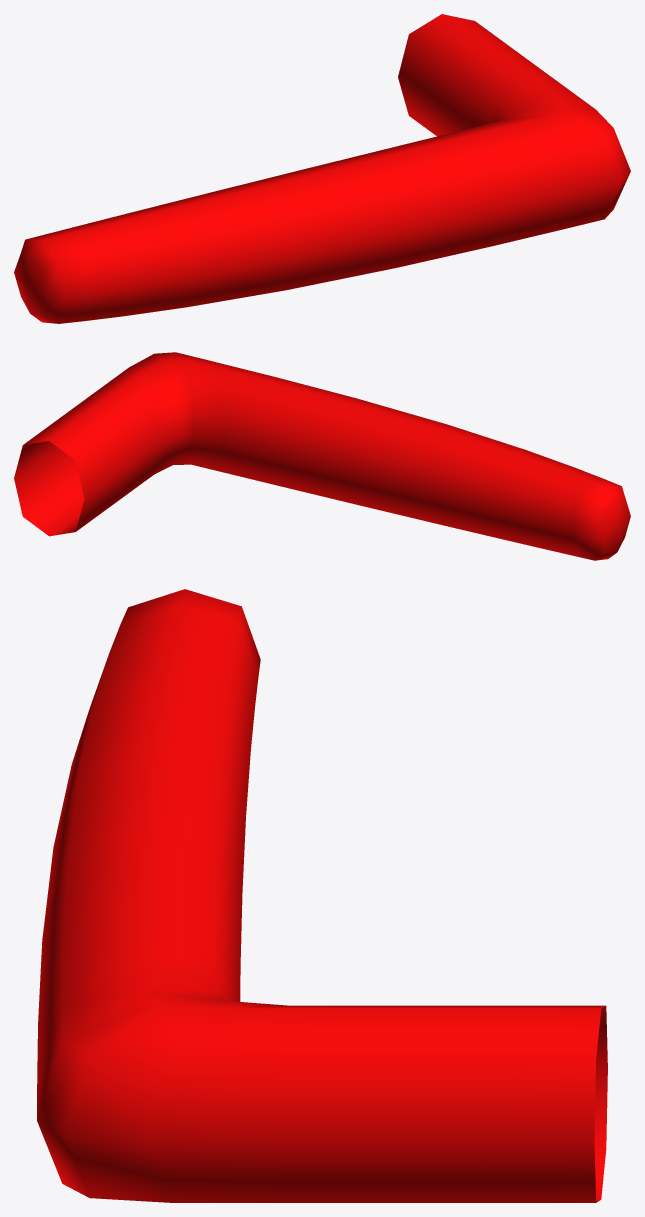
File: Door_Handle.fbx
The picture shows the model from 3 angles, top to bottom: view 1: azimuth 30°, elevation 25°; view 2: azimuth 150°, elevation 25°; view 3: azimuth 270°, elevation 25°; orthographic projection. The views are drawn at different scales.
Parts seen in each view (by area): view 1: Door_Handle; view 2: Door_Handle; view 3: Door_Handle.
Part boxes in pixels (x1,y1,x2,y2): Door_Handle: (14, 14, 630, 323); Door_Handle: (14, 352, 630, 560); Door_Handle: (37, 589, 607, 1202).
Bounding box in the file's own units: 17.34 × 3.13 × 8.49.
